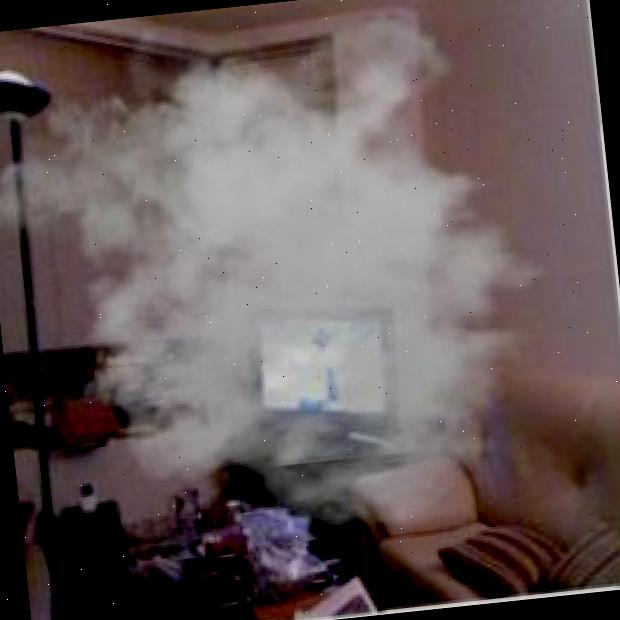smoke: (0, 0, 595, 562)
